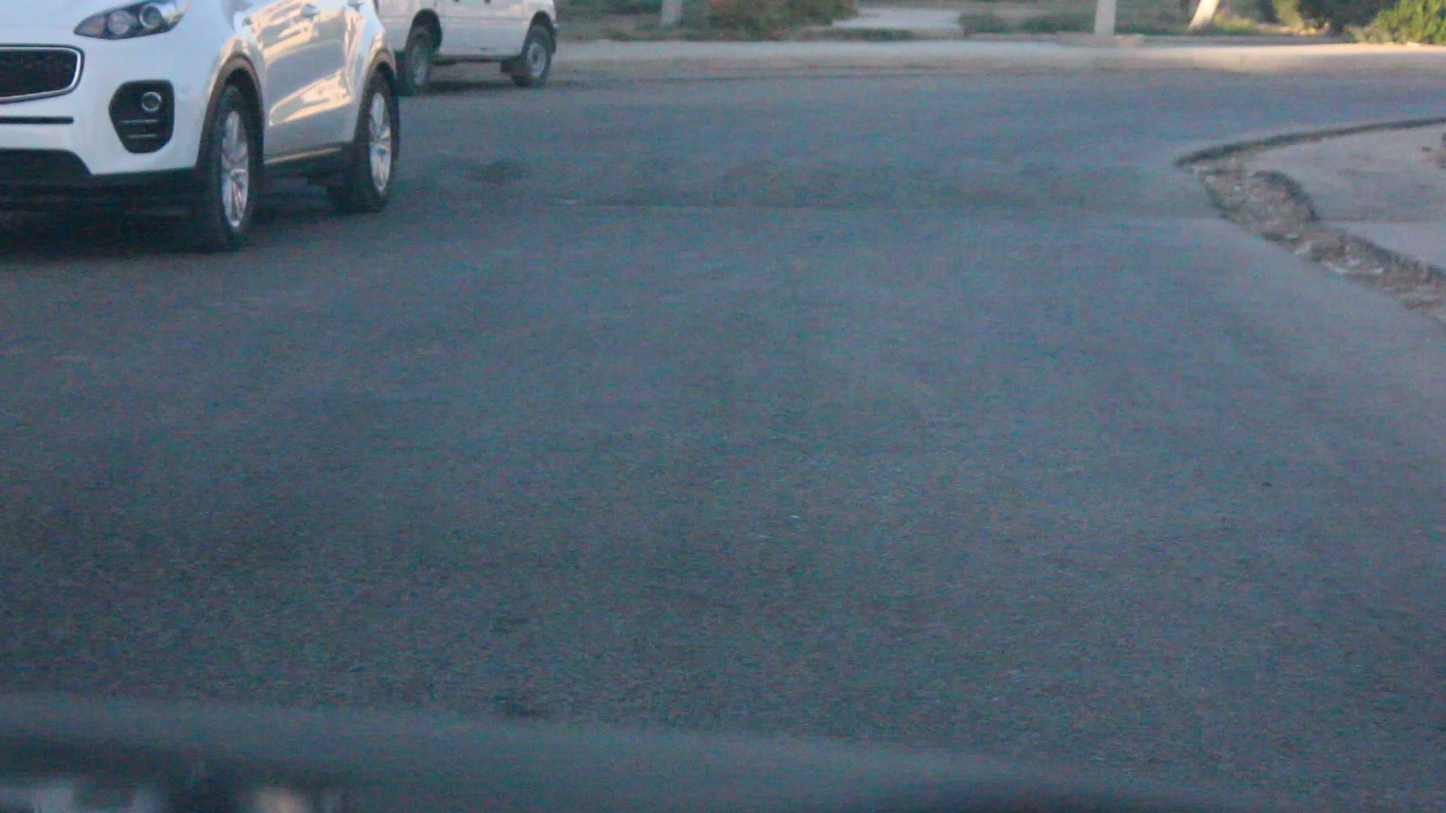Bump: (418, 149, 1220, 222)
